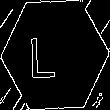L_N: (40, 29, 70, 81)
